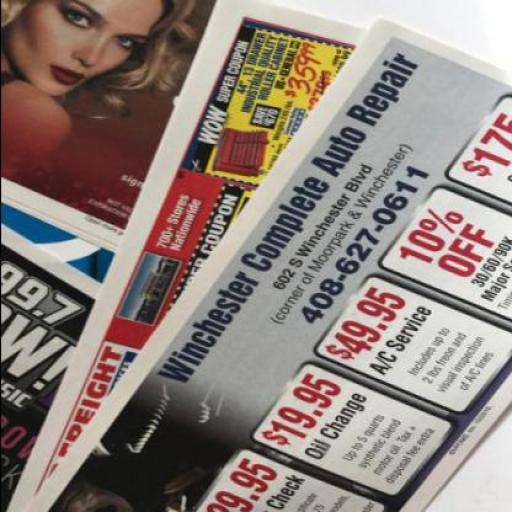paper: (28, 16, 511, 511), (5, 0, 365, 511), (1, 0, 218, 511)
